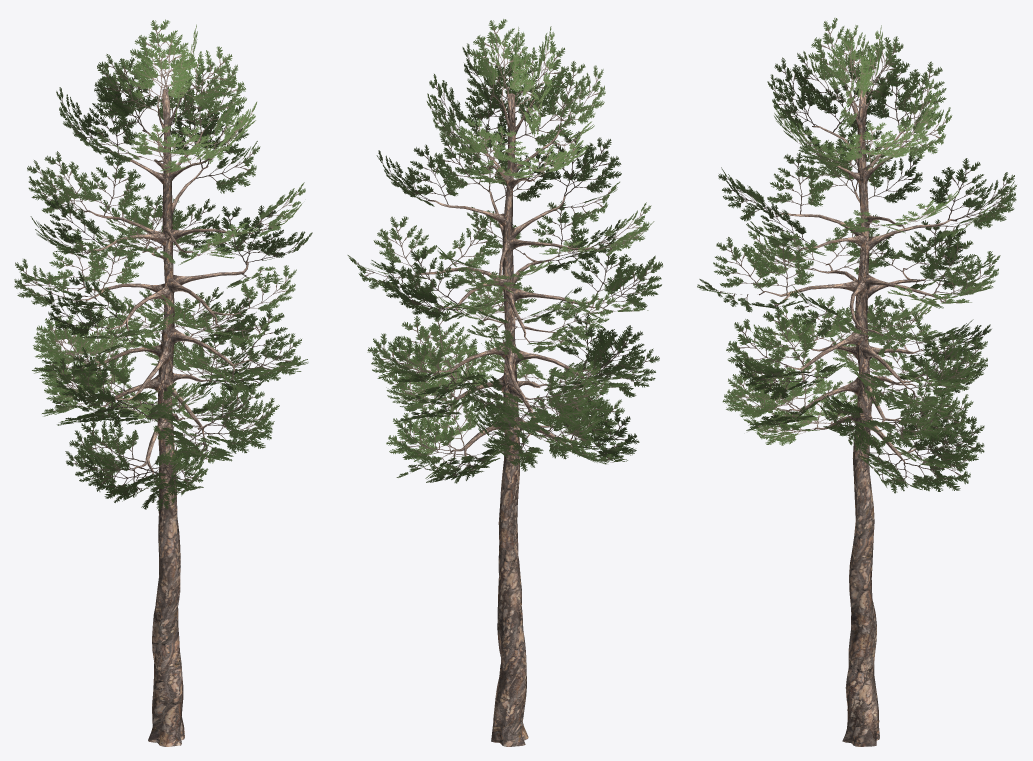
File: tree.glb
3 renders of one model, left to right at view 1: azimuth 30°, elevation 25°; view 2: azimuth 150°, elevation 25°; view 3: azimuth 270°, elevation 25°, orthographic.
Parts seen in each view (by area): view 1: Tree_1, Tree_0; view 2: Tree_1, Tree_0; view 3: Tree_1, Tree_0.
Part boxes in pixels (left/top/right/bottom): Tree_1: left=14, top=19, right=312, bottom=510; Tree_0: left=77, top=88, right=253, bottom=746; Tree_1: left=347, top=19, right=662, bottom=483; Tree_0: left=413, top=88, right=604, bottom=746; Tree_1: left=697, top=18, right=1016, bottom=493; Tree_0: left=759, top=88, right=956, bottom=746.
Size of the model in its own units: 6.55 by 15.95 by 6.5.
2 materials, 2 textured.
